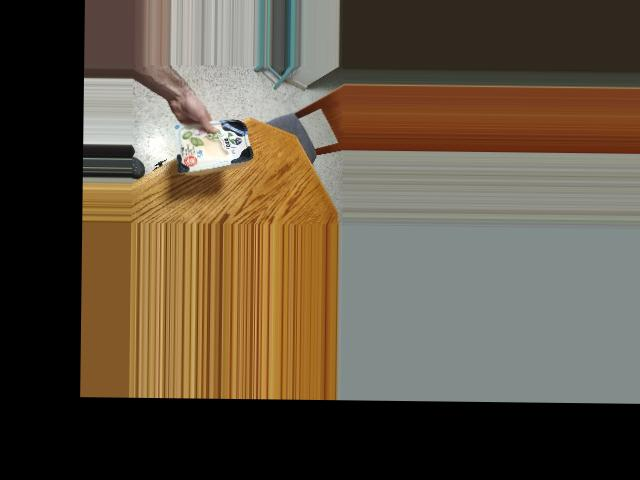cheese: (175, 116, 252, 175)
